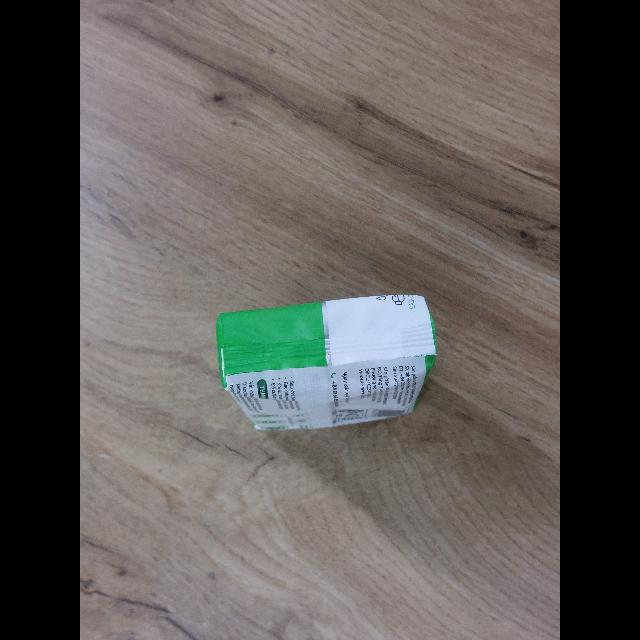khan_giay: (214, 294, 438, 433)
